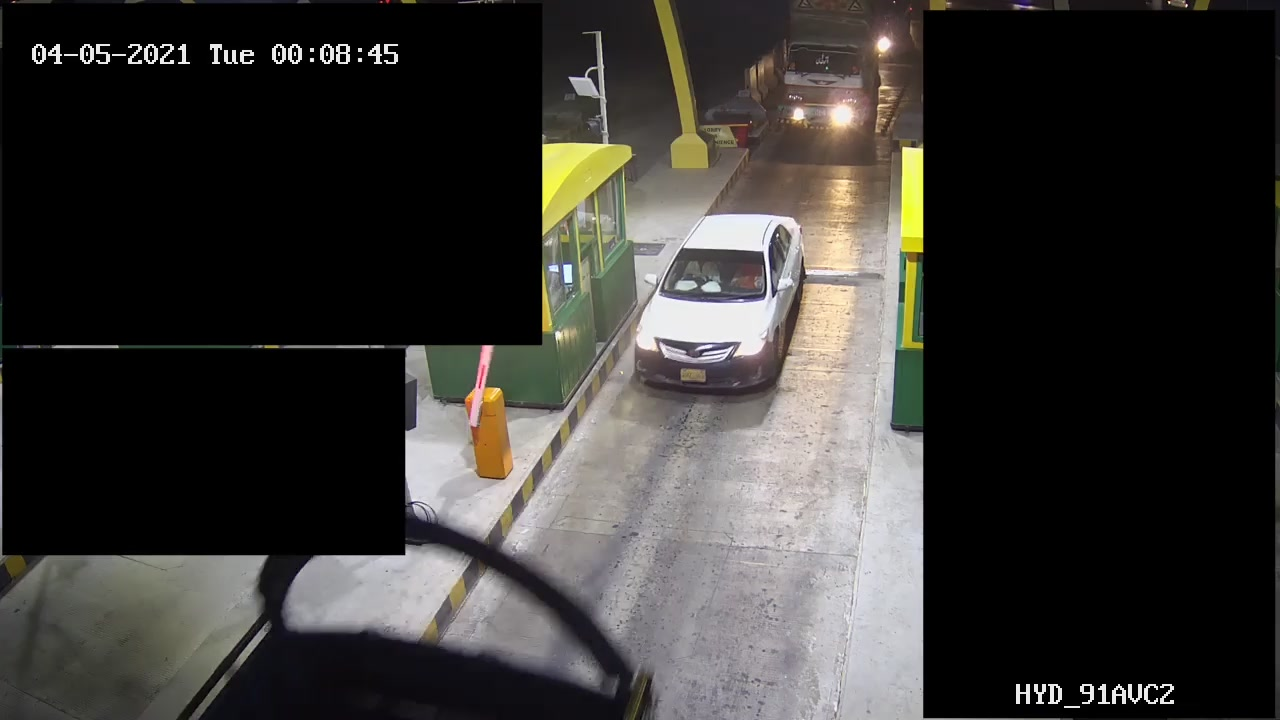F1: (630, 212, 807, 390)
